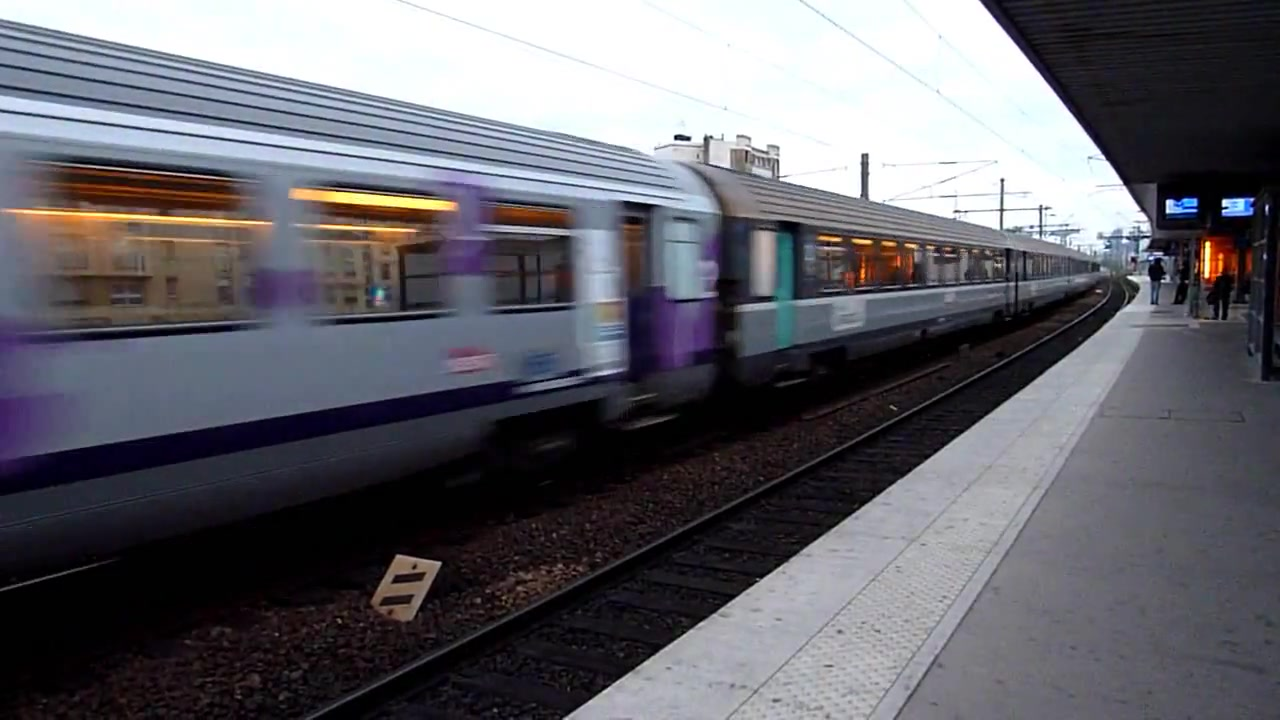train: (1, 12, 1108, 613)
